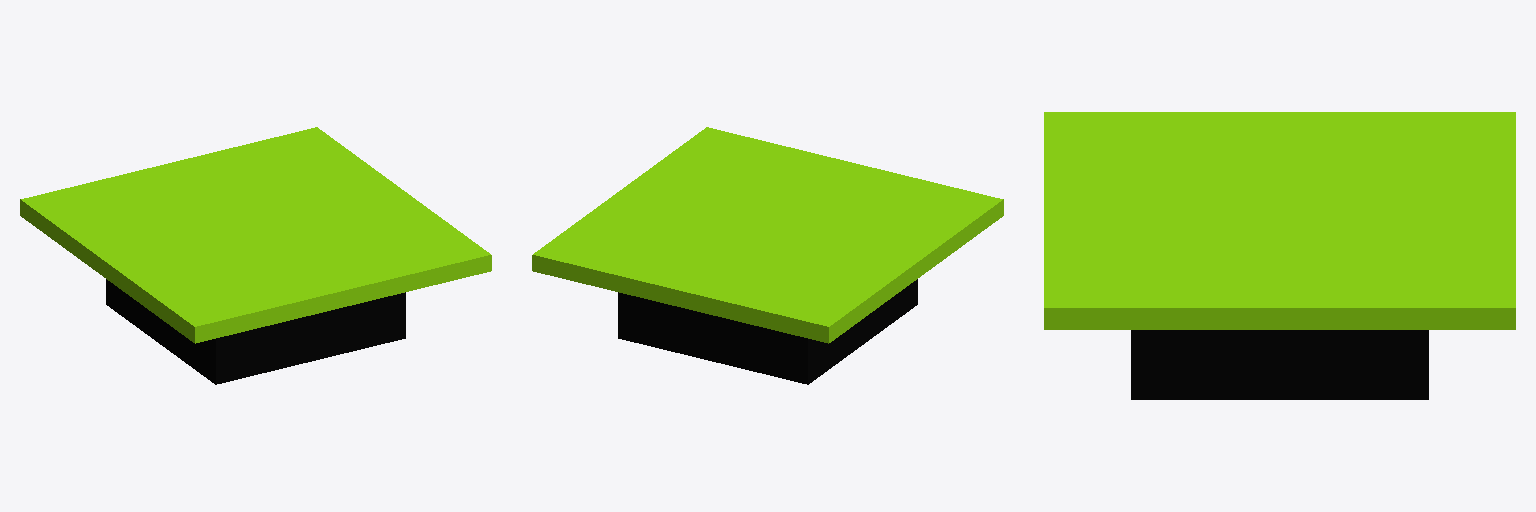
robot.urdf — plate_with_rect_pillar:
<?xml version="1.0"?>
<robot name="plate_with_rect_pillar">

  <link name="base_link">

    <!-- 1. 관성 (대충 값이라도 넣어야 경고가 줄어듦) -->
    <inertial>
      <origin xyz="0 0 0.0425" rpy="0 0 0"/>
      <mass value="1.0"/>
      <inertia
        ixx="0.01" ixy="0.0" ixz="0.0"
        iyy="0.01" iyz="0.0"
        izz="0.01"/>
    </inertial>

    <!-- 2. 충돌: 전체를 하나의 박스로 취급 (0.28 x 0.285 x 0.085) -->
    <collision name="collision_box">
      <origin xyz="0 0 0.0425" rpy="0 0 0"/>
      <geometry>
        <box size="0.28 0.285 0.085"/>
      </geometry>
    </collision>

    <!-- 3. 연두색 판 (맨 위, 두께 0.015, 중심 z = 0.035) -->
    <visual name="plate_visual">
      <origin xyz="0 0 0.0775" rpy="0 0 0"/>
      <geometry>
        <box size="0.28 0.285 0.015"/>
      </geometry>
      <material name="green_plate">
        <color rgba="0.6 0.9 0.1 1.0"/>
      </material>
    </visual>

    <!-- 4. 검정 사각 기둥 (받침, size 0.18 x 0.18 x 0.07, 중심 z = -0.0075) -->
    <visual name="rect_pillar_visual">
      <origin xyz="0 0 0.035" rpy="0 0 0"/>
      <geometry>
        <box size="0.18 0.18 0.07"/>
      </geometry>
      <material name="black_pillar">
        <color rgba="0.05 0.05 0.05 1.0"/>
      </material>
    </visual>

  </link>

  <!-- Gazebo에서는 이걸 움직이지 않는 물체로 사용 -->
  <gazebo reference="base_link">
    <static>true</static>
  </gazebo>

</robot>

--- Facts derived from the render (not from the file) ---
Views: 3 orthographic renders of the robot side by side, from view 1: azimuth 30°, elevation 25°; view 2: azimuth 150°, elevation 25°; view 3: azimuth 270°, elevation 25°.
Model plate_with_rect_pillar with 1 links and 0 joints (none), rooted at base_link, posed all joints at 0.
Visible links, largest first — view 1: base_link; view 2: base_link; view 3: base_link.
Link boxes in pixels (x1,y1,x2,y2): base_link: (20,127,491,384); base_link: (532,127,1003,384); base_link: (1044,112,1515,399).
Size in the robot's own frame: 0.28 by 0.285 by 0.085 metres.
Geometry: primitives only (box / cylinder / sphere), no mesh files.
